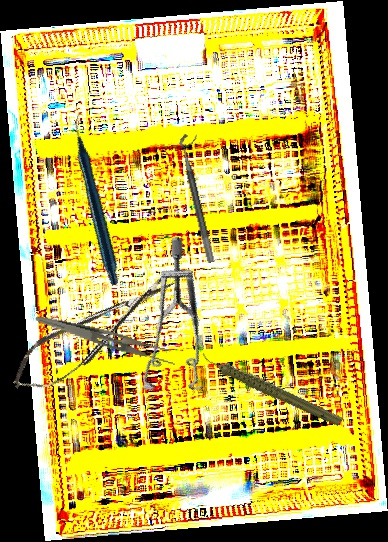Dressing Forceps: (32, 315, 179, 367)
Fixation Ring: (177, 131, 226, 264)
Handpiece: (22, 110, 174, 287), (200, 323, 344, 452)
Micro Scissor: (1, 263, 186, 403)
Speculum: (90, 233, 267, 418)
